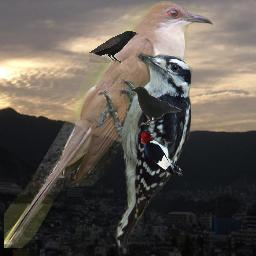Crow: (129, 85, 182, 125), (89, 30, 139, 63)
Cuckoo: (4, 1, 216, 248)
Woodpecker: (96, 51, 204, 254), (141, 131, 183, 176)
